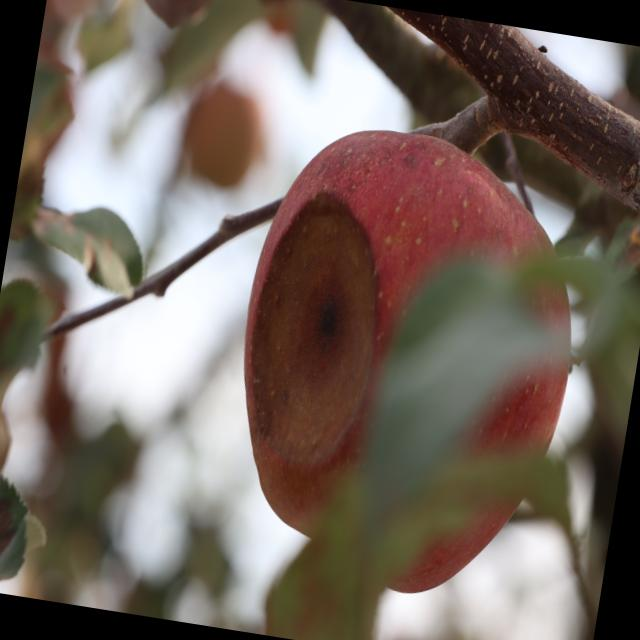rotten: (202, 101, 607, 622)
